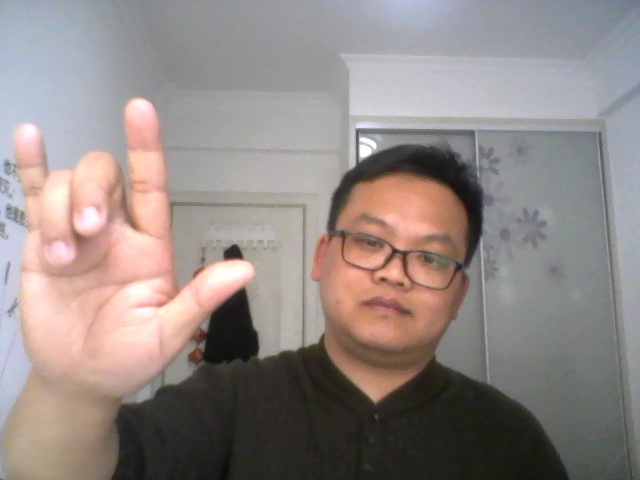I Love You: (9, 94, 260, 399)
